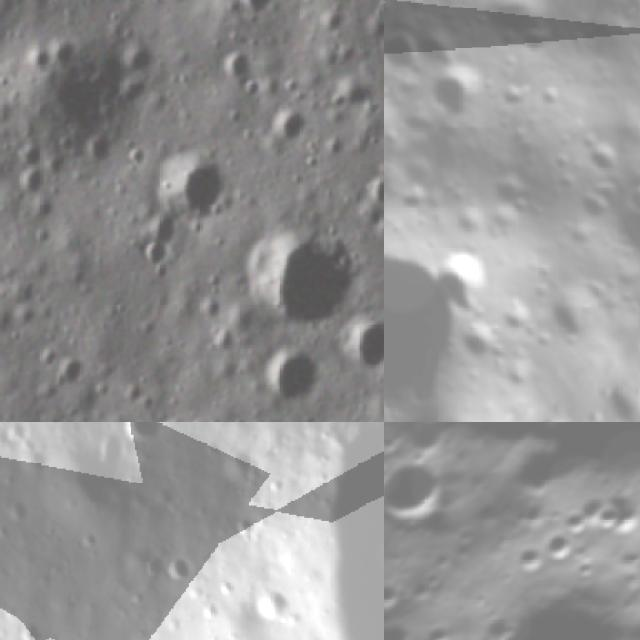crater: (384, 422, 640, 622), (474, 566, 640, 640), (246, 230, 350, 322), (384, 440, 466, 543), (428, 241, 509, 320), (428, 56, 501, 130), (156, 159, 236, 221), (581, 479, 640, 551), (384, 16, 441, 82), (266, 347, 319, 407), (533, 520, 587, 574), (337, 313, 384, 372), (247, 578, 299, 630), (384, 562, 420, 621), (158, 543, 204, 588), (508, 537, 552, 580), (216, 443, 260, 485), (48, 350, 89, 390), (215, 44, 256, 82), (16, 438, 54, 478), (132, 542, 169, 582), (273, 108, 306, 150), (384, 611, 426, 640), (618, 174, 640, 229), (19, 162, 55, 195), (0, 494, 32, 525), (135, 238, 169, 266), (16, 616, 52, 640), (76, 524, 105, 553), (384, 513, 399, 567), (4, 422, 30, 444), (32, 44, 53, 71), (127, 145, 147, 173), (121, 422, 161, 436), (245, 0, 274, 19), (269, 475, 289, 495), (369, 177, 384, 199), (0, 69, 13, 93), (103, 631, 132, 640)
